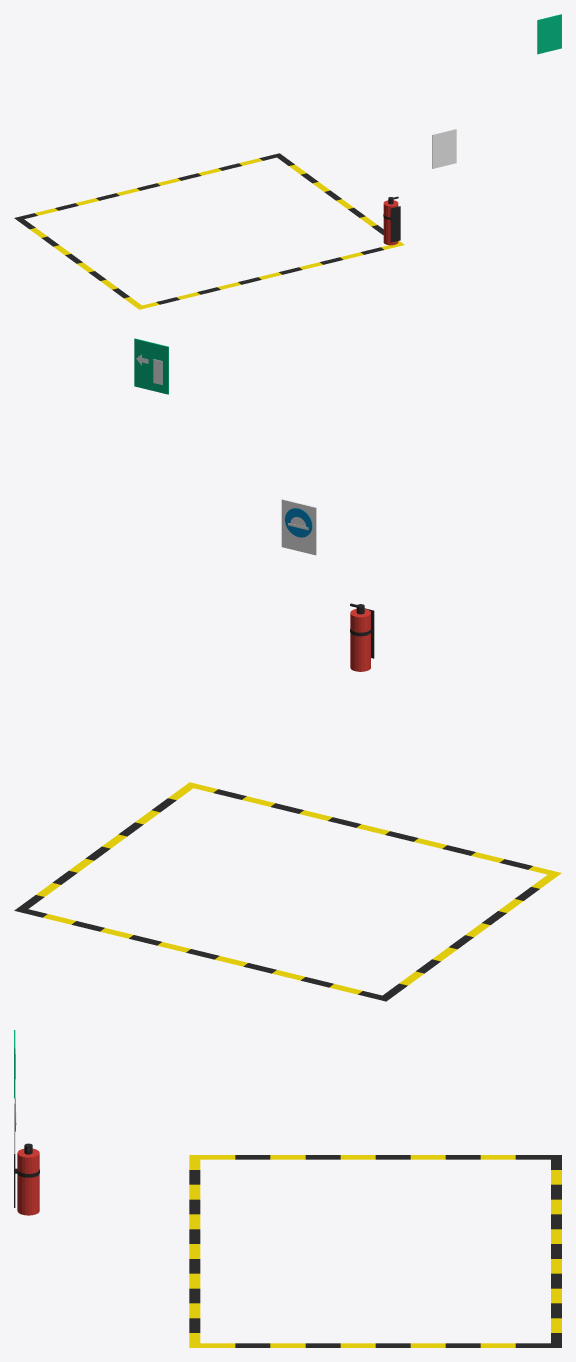
File: safety.fbx
3 renders of one model, top to bottom at view 1: azimuth 30°, elevation 25°; view 2: azimuth 150°, elevation 25°; view 3: azimuth 270°, elevation 25°, orthographic. The views are drawn at different scales.
Parts seen in each view (by area): view 1: safety_zone_line, safety_sign_emergency, safety_sign_ppe, fire_extinguisher; view 2: safety_zone_line, safety_sign_ppe, safety_sign_emergency, fire_extinguisher; view 3: safety_zone_line, fire_extinguisher.
Part boxes in pixels (x1,y1,x2,y2): safety_zone_line: (14,153,404,309); safety_sign_emergency: (537,14,561,54); safety_sign_ppe: (432,129,456,168); fire_extinguisher: (383,196,400,245); safety_zone_line: (14,782,561,1001); safety_sign_ppe: (281,499,316,555); safety_sign_emergency: (134,338,168,394); fire_extinguisher: (350,603,374,671); safety_zone_line: (189,1155,561,1347); fire_extinguisher: (14,1143,39,1215).
Size of the model in its own units: 4.49 by 2.95 by 3.94.
